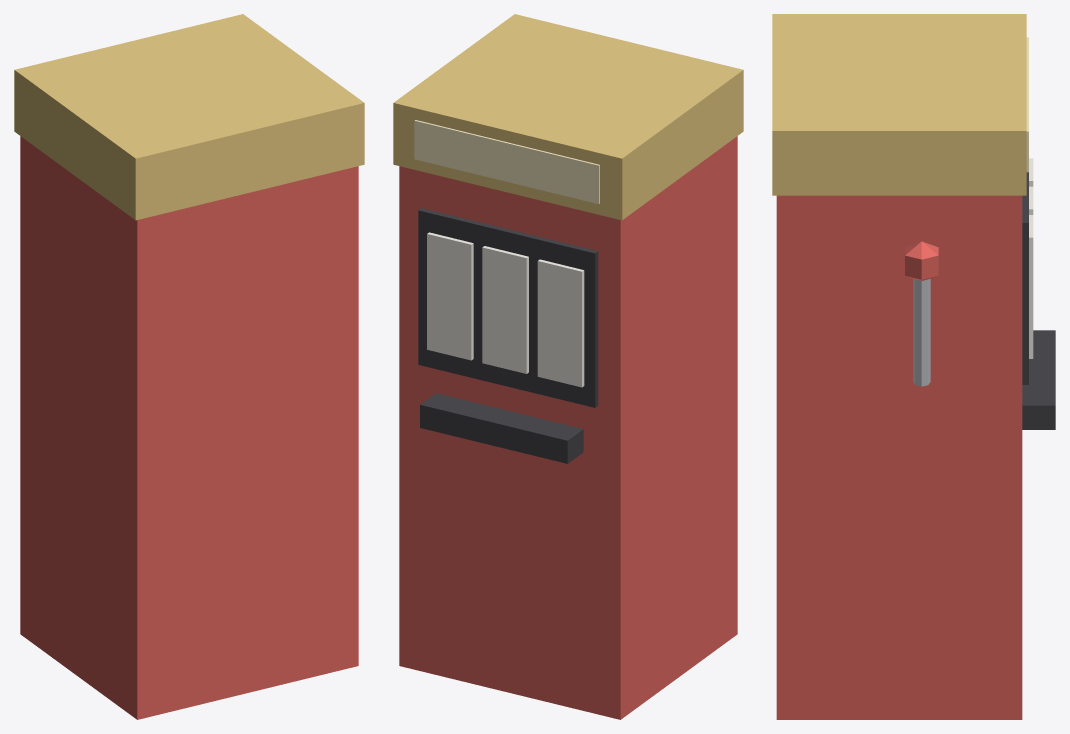
File: slot_machine.glb
3 views of the same model, side by side, from view 1: azimuth 30°, elevation 25°; view 2: azimuth 150°, elevation 25°; view 3: azimuth 270°, elevation 25° (orthographic). The views are drawn at different scales.
Visible parts, largest first — view 1: slot_machine; view 2: slot_machine; view 3: slot_machine.
Part boxes in pixels (left/top/right/bottom): slot_machine: left=14, top=14, right=364, bottom=719; slot_machine: left=393, top=14, right=743, bottom=719; slot_machine: left=772, top=14, right=1055, bottom=719.
Size of the model in its own units: 0.7333 by 1.46 by 0.635.
